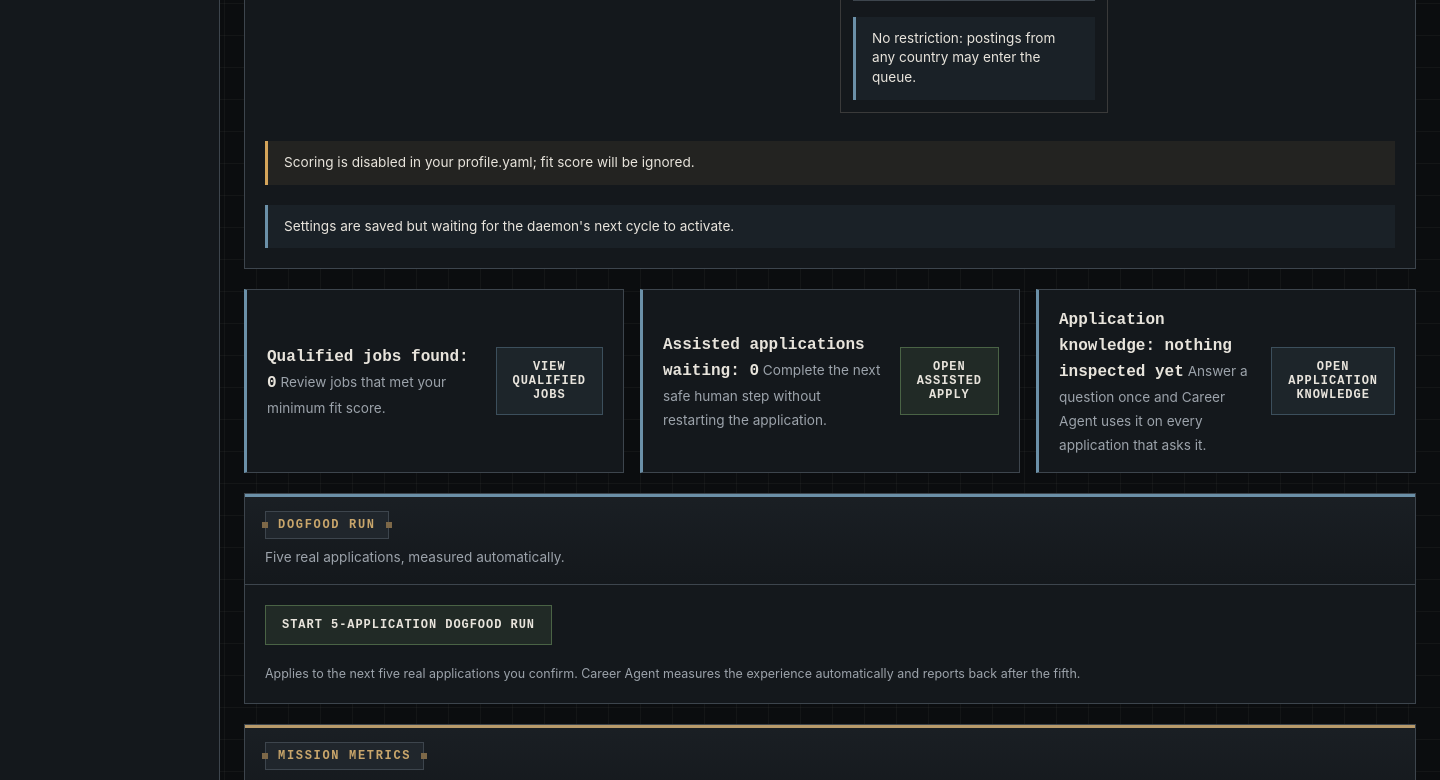
Test case: Application Knowledge › tells the operator what their next answers buy them, in queue terms
The width and height of the screenshot is (1440, 780).
(page scrolled)
Click the button "Open Application Knowledge".
click(1333, 381)  # box left=1271, top=347, right=1395, bottom=415
(page scrolled)
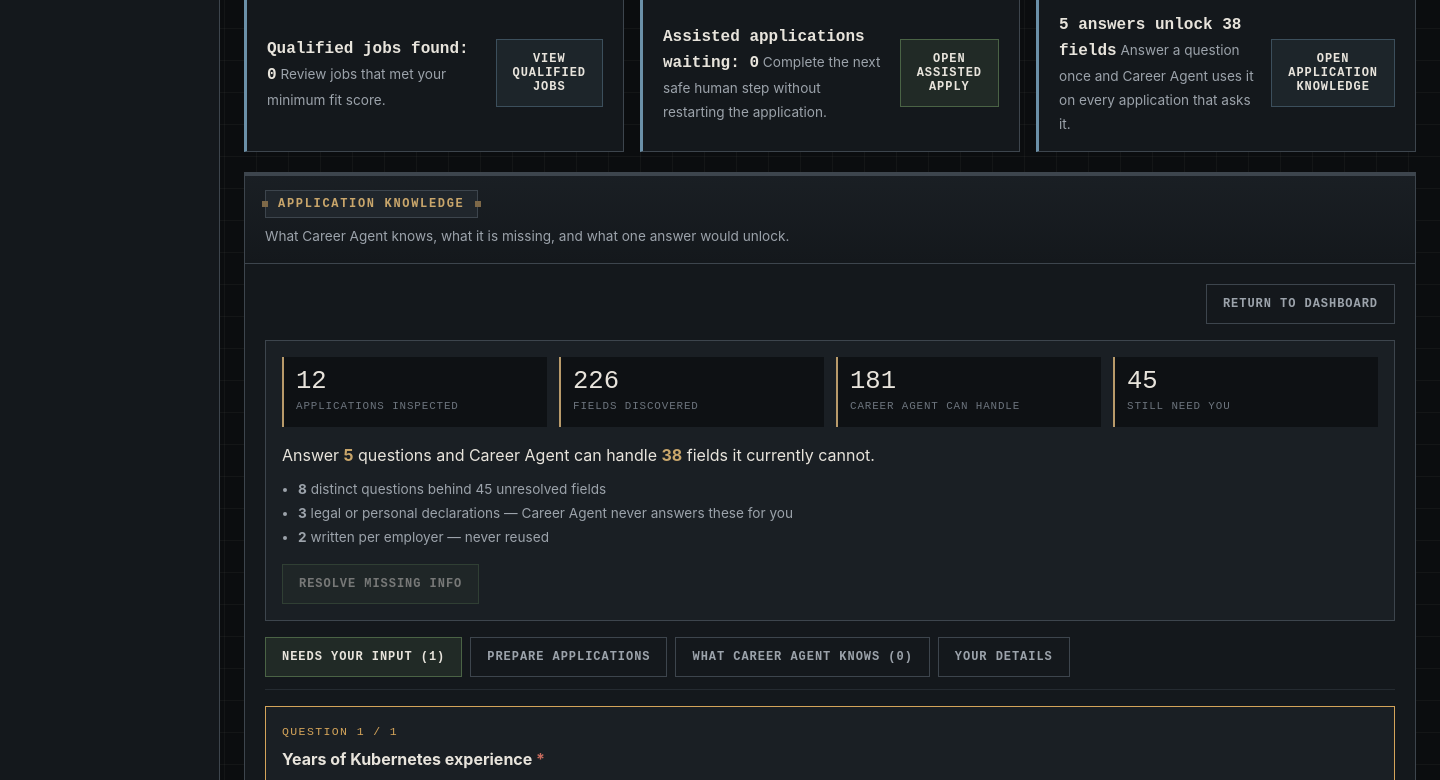
Check: the text "and Career Agent can handle" is shown, box left=432, top=444, right=657, bottom=464
Check: the text "38" is shown, box left=662, top=444, right=682, bottom=464
Check: the text "226" is shown, box left=573, top=367, right=619, bottom=396
